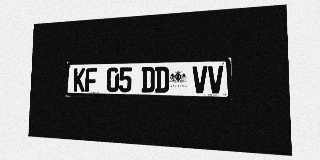0: (106, 67, 119, 92)
5: (119, 67, 132, 92)
D: (155, 66, 169, 93), (141, 67, 155, 93)
F: (85, 68, 97, 92)
K: (73, 68, 85, 92)
V: (208, 66, 224, 93), (192, 66, 207, 93)
